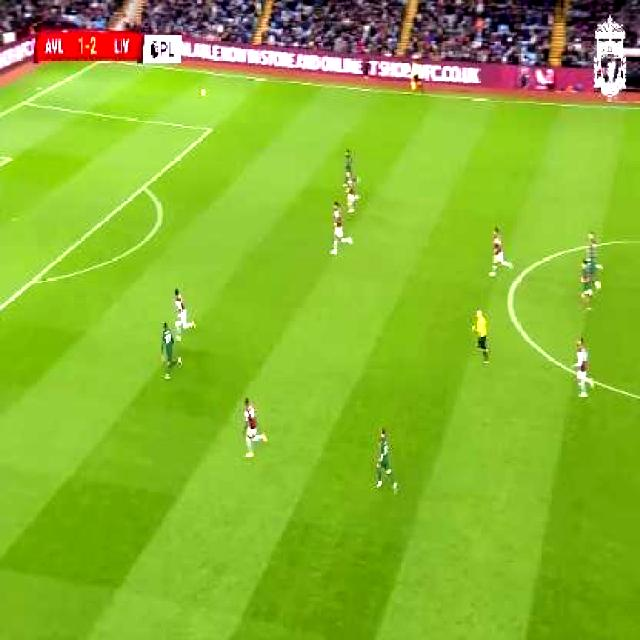bigarea_top_inner: (201, 118, 217, 138)
bigarea_top_outter: (15, 92, 32, 111)
bottom_arc_area_intersection: (23, 269, 40, 291)
corner: (92, 55, 110, 68)
smallarea_top_inner: (2, 149, 15, 166)
top_arc_area_intersection: (136, 177, 150, 195)
